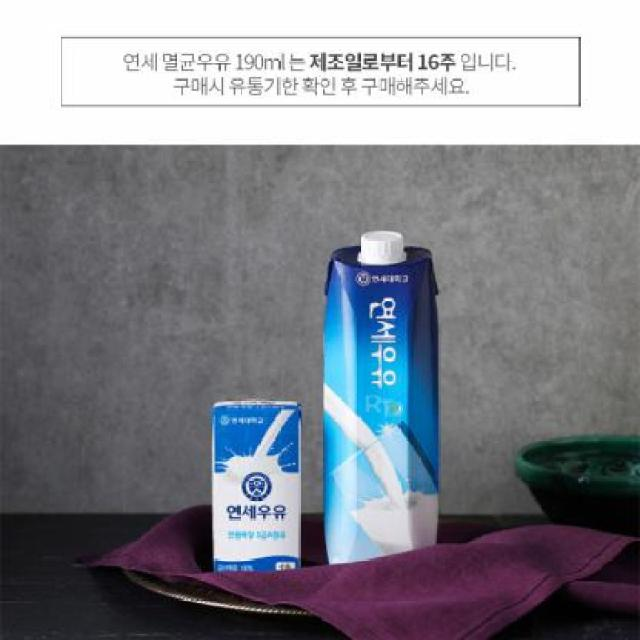tetra: (316, 210, 470, 592), (203, 380, 314, 595)
